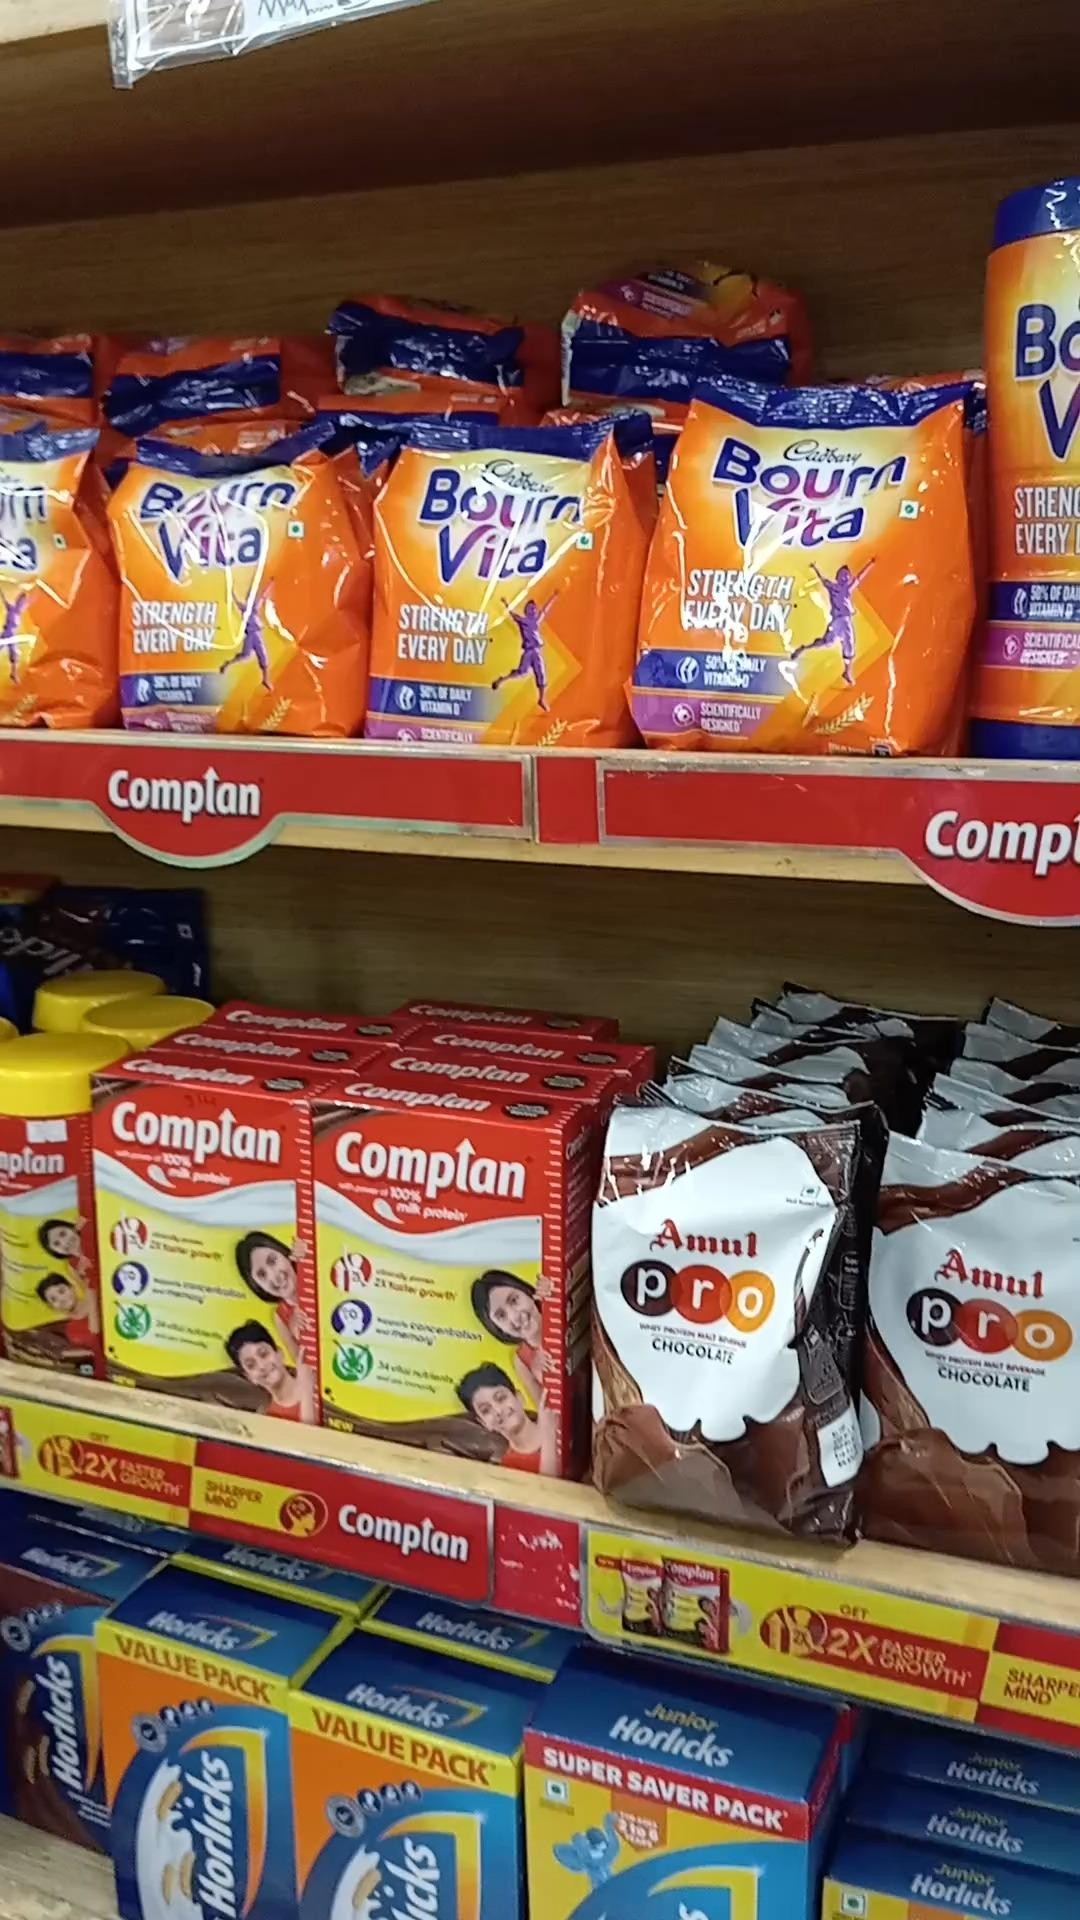BOURN_VITA_500_G_POUCH: (654, 356, 977, 750), (376, 401, 629, 746), (111, 418, 365, 738)
COMPLAN_CHOCOLATE_500_GMS_PACK: (326, 1114, 567, 1449), (88, 1068, 314, 1423)
HORLICK_CLASSIC_MALT_500_G_PACK: (100, 1617, 277, 1920)
